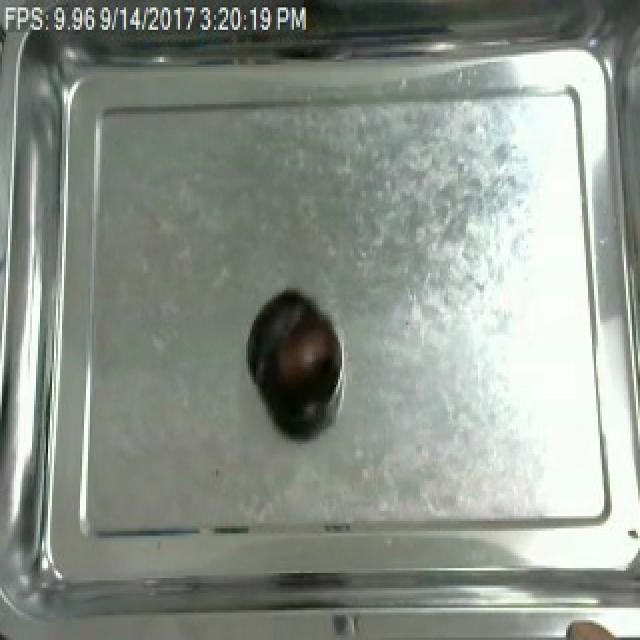Fruit: (246, 288, 340, 424), (554, 610, 638, 640)
